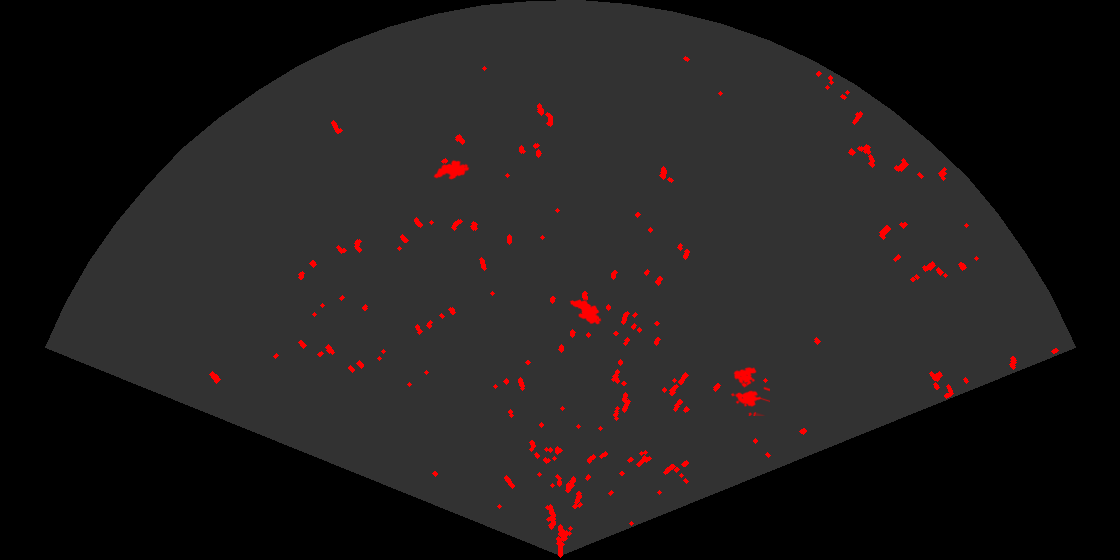AUV: (568, 298, 603, 326), (432, 158, 471, 181)
cage: (729, 365, 770, 416)
